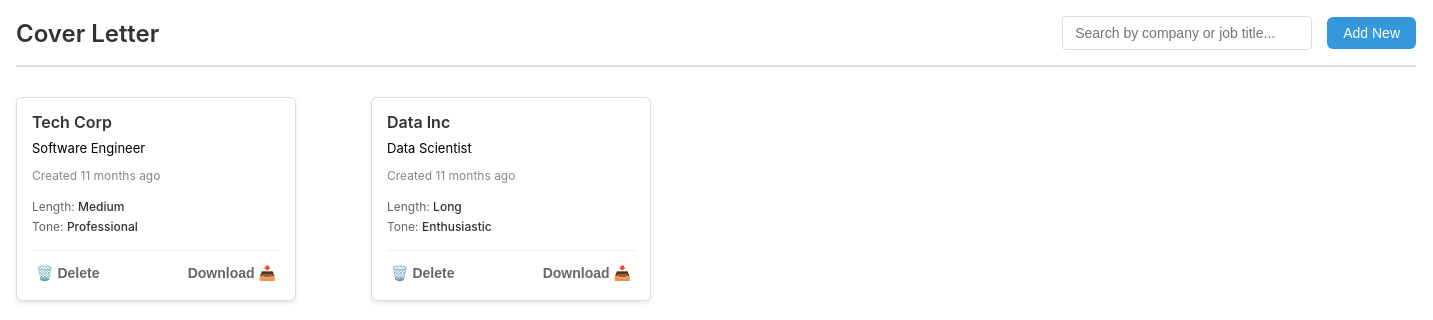
Test: CoverLetter Component › Search Functionality › filters by job title
Expected: the text "Data Scientist" is shown, top-left (387, 140), bottom-right (472, 156)
Type "Scientist" into the field with placeholder "Search by company or job title..." at (1187, 33), box top-left (1062, 16), bottom-right (1312, 50)
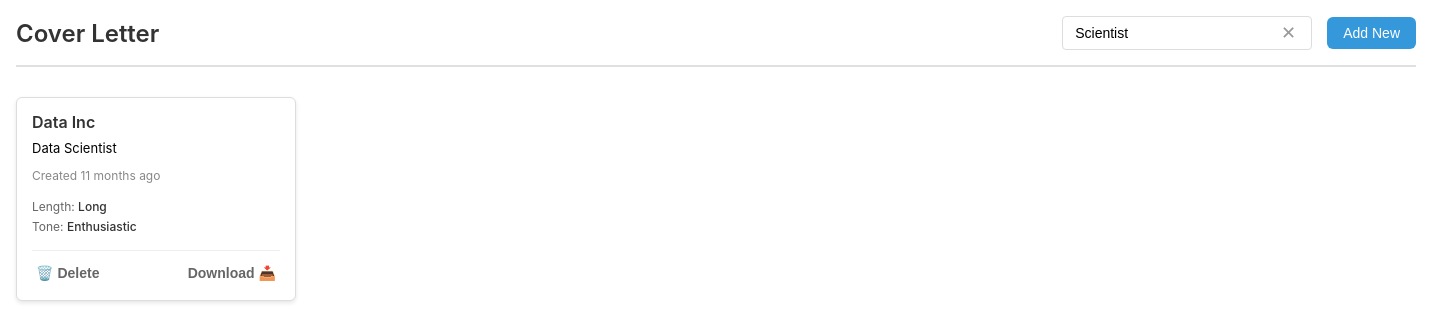
Expected: the text "Data Scientist" is shown, top-left (32, 140), bottom-right (117, 156)
Now the text "Software Engineer" is gone
